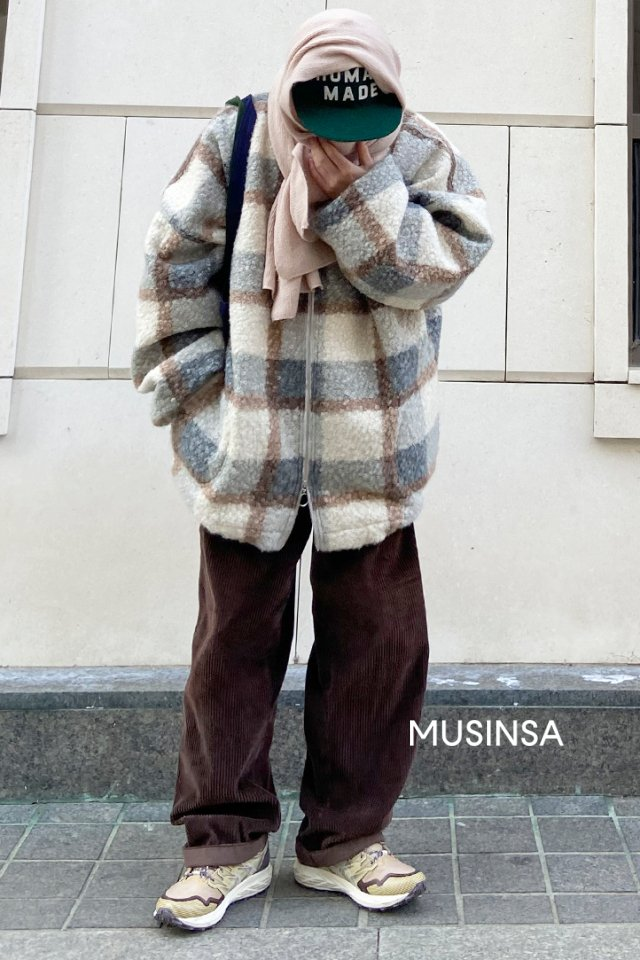Cap: (291, 69, 399, 142)
Muffler: (267, 8, 389, 288)
Outer: (164, 104, 474, 539)
Pants: (177, 529, 427, 850)
Shoes: (140, 844, 442, 939)
